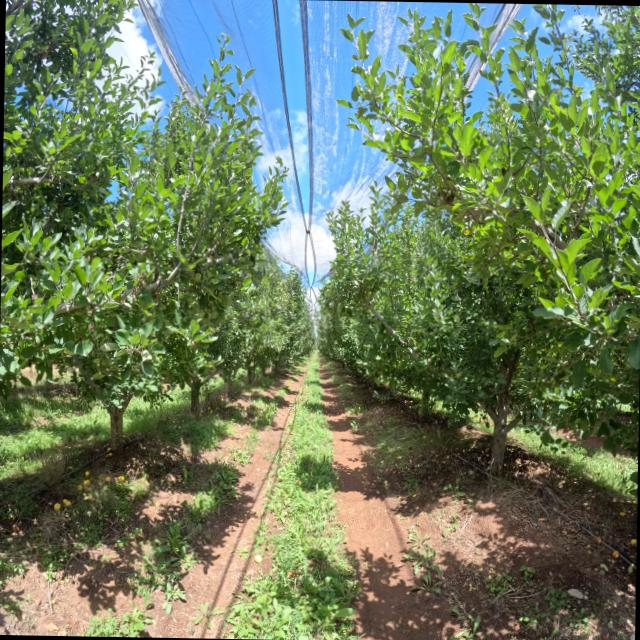-FireBlight-: (132, 269, 146, 301)
